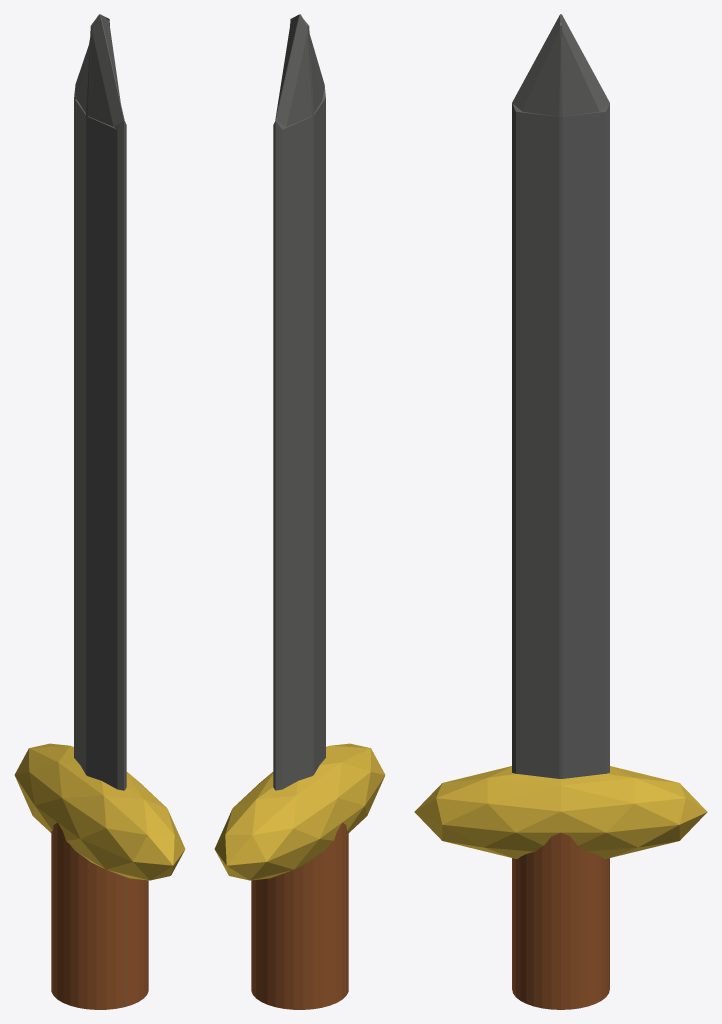
File: Sword.fbx
3 renders of one model, left to right at view 1: azimuth 30°, elevation 25°; view 2: azimuth 150°, elevation 25°; view 3: azimuth 270°, elevation 25°, orthographic.
Parts seen in each view (by area): view 1: Cylinder; view 2: Cylinder; view 3: Cylinder.
Part boxes in pixels (x1,y1,x2,y2): Cylinder: [14, 14, 185, 1009]; Cylinder: [214, 14, 385, 1009]; Cylinder: [414, 14, 707, 1009].
Size of the model in its own units: 10 by 110 by 30.
